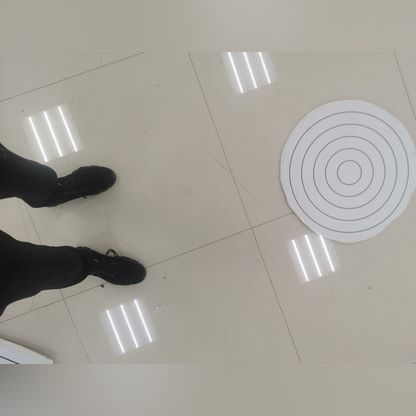circle: (274, 109, 416, 242)
